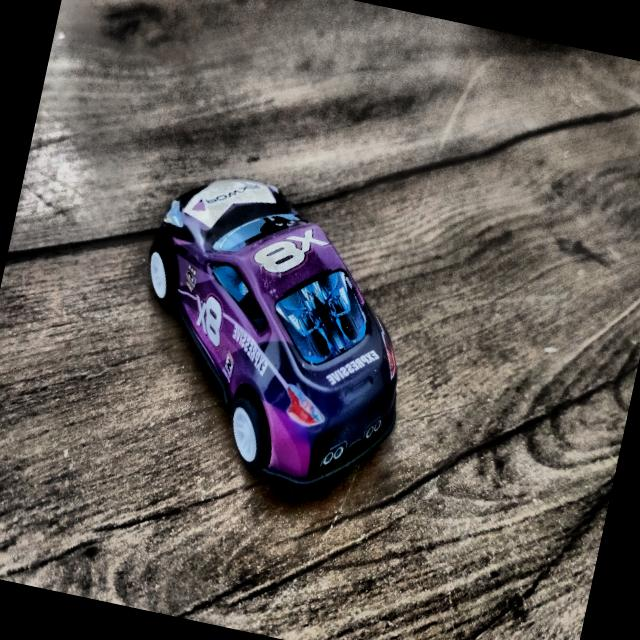Car: (97, 152, 445, 526)
